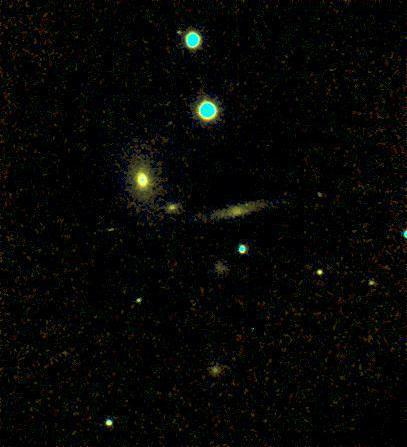star: (233, 190, 263, 220)
